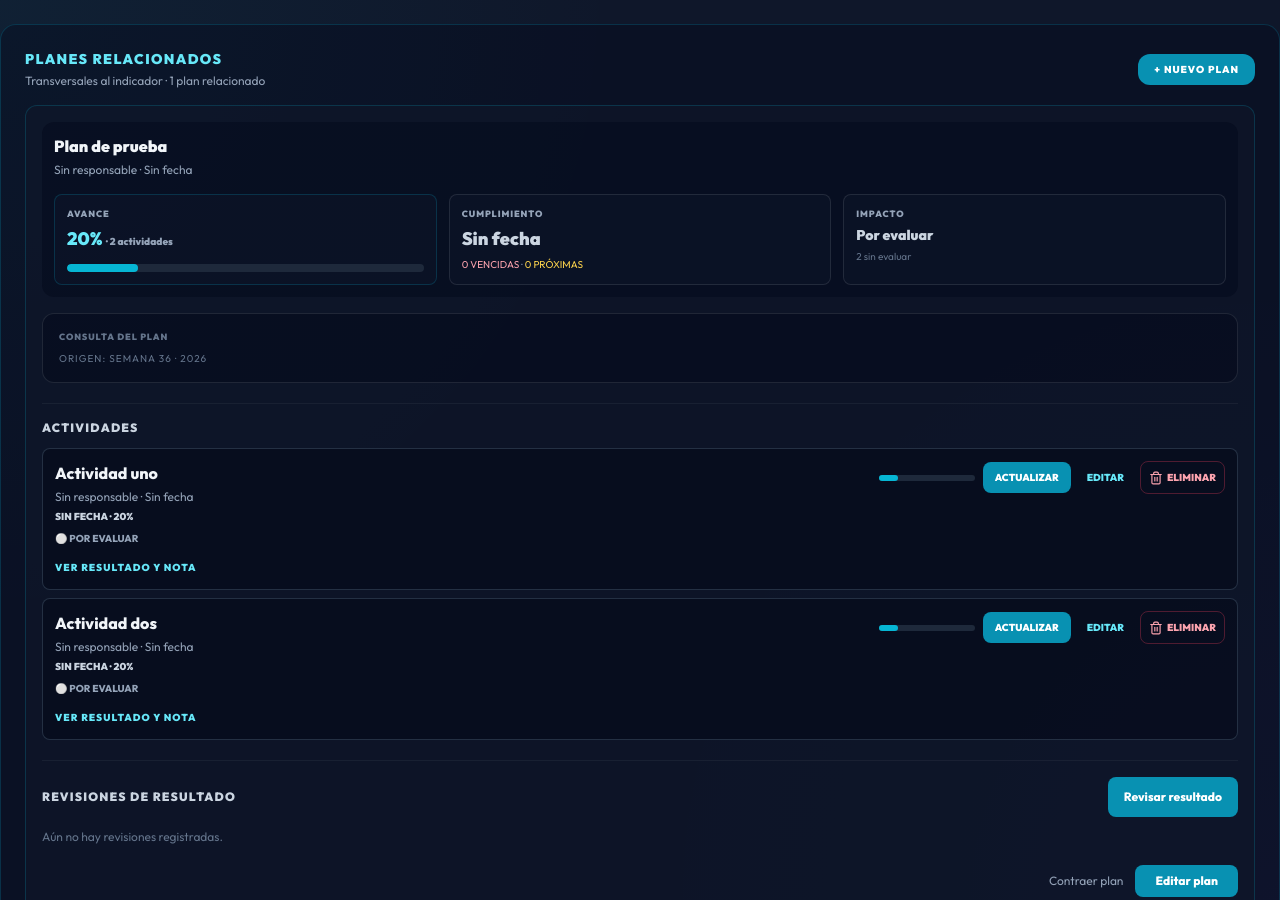
Test: RelatedActionPlans delete contract › result expansion is independent for two stable activity IDs
Click the button "VER RESULTADO Y NOTA" below "Actividad uno".
click(126, 568)  # box [55, 560, 197, 575]
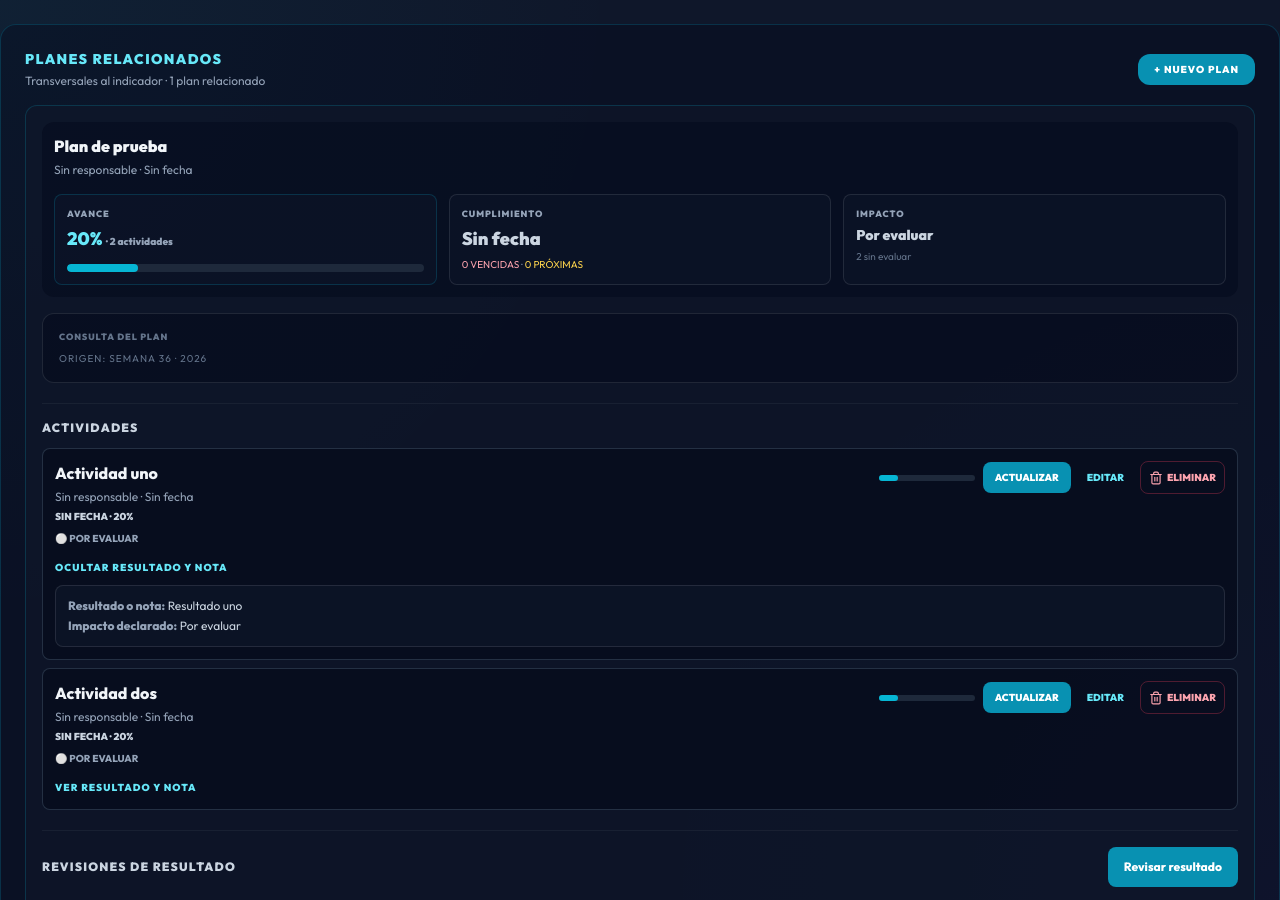
Expected: the button "VER RESULTADO Y NOTA" is shown, [55, 780, 197, 795]
Expected: the text "Resultado uno" is shown, [168, 598, 242, 613]
Click the button "OCULTAR RESULTADO Y NOTA".
click(141, 568)  # box [55, 560, 228, 575]
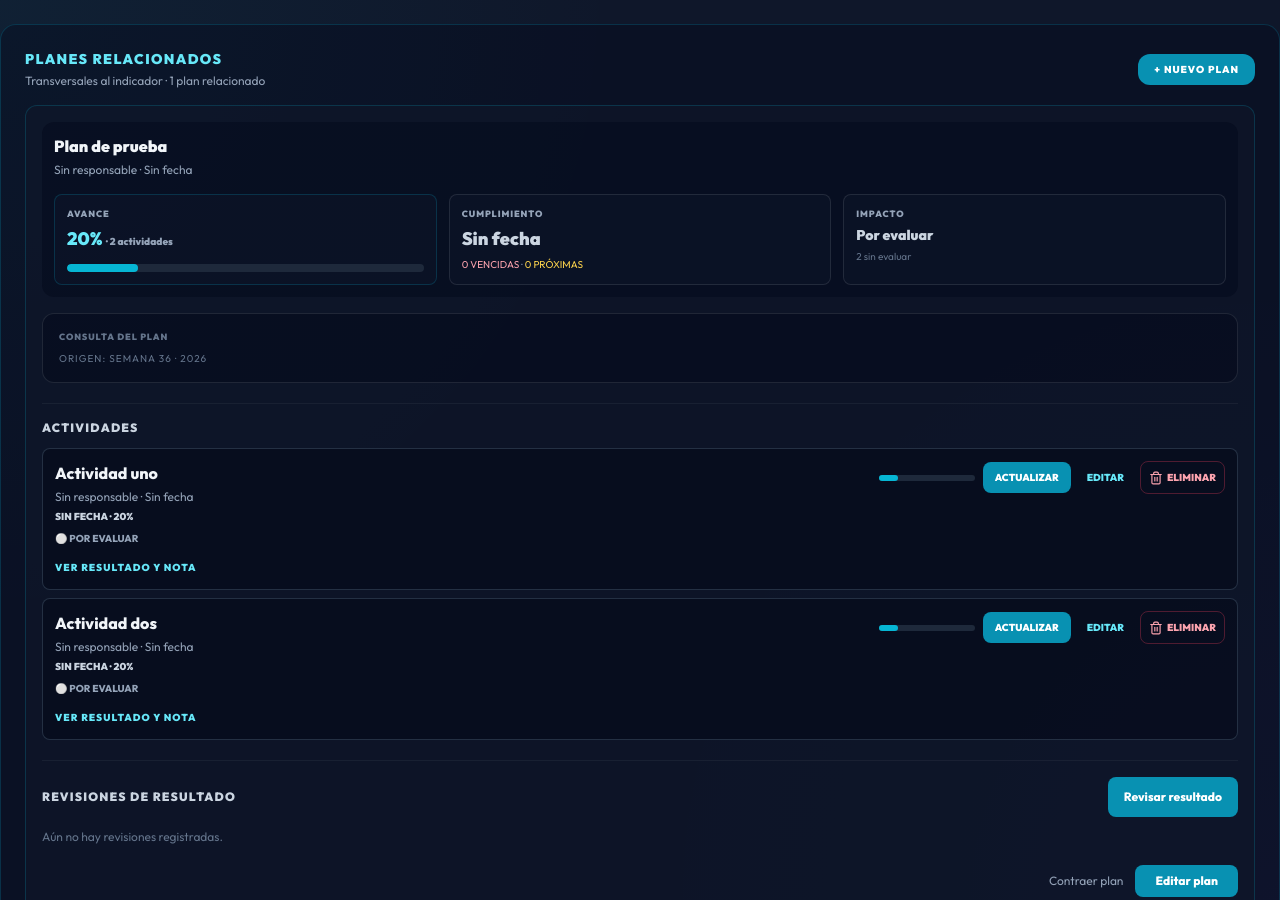
Expected: the number of buttons "VER RESULTADO Y NOTA" is 2, [55, 560, 197, 575]; [55, 710, 197, 725]
Expected: the text "Resultado uno" is gone
